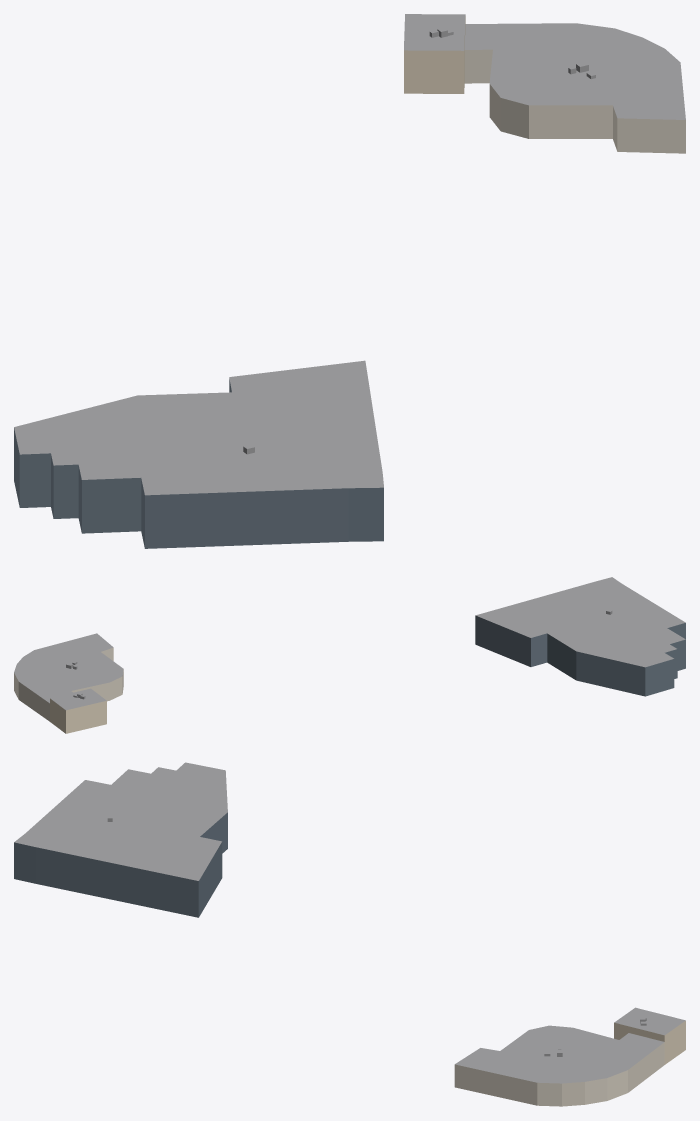
File: building_-2_-2.glb
The picture shows the model from 3 angles, top to bottom: view 1: azimuth 30°, elevation 25°; view 2: azimuth 150°, elevation 25°; view 3: azimuth 270°, elevation 25°; orthographic projection. The views are drawn at different scales.
Parts seen in each view (by area): view 1: roof, glass_dark, concrete_warm, sandstone; view 2: roof, glass_dark, sandstone, concrete_warm; view 3: roof, glass_dark, concrete_warm, sandstone.
Boxes of the visible parts, box(x1,y1,x2,y2) form: roof: box(14, 14, 685, 495); glass_dark: box(14, 379, 383, 548); concrete_warm: box(464, 49, 685, 153); sandstone: box(404, 16, 465, 93); roof: box(14, 577, 685, 710); glass_dark: box(475, 615, 685, 696); sandstone: box(50, 698, 106, 733); concrete_warm: box(14, 647, 123, 721); roof: box(14, 762, 685, 1083); glass_dark: box(14, 812, 227, 917); concrete_warm: box(454, 1042, 664, 1106); sandstone: box(614, 1020, 685, 1064).
Bounding box in the file's own units: 288 × 17.61 × 266.
